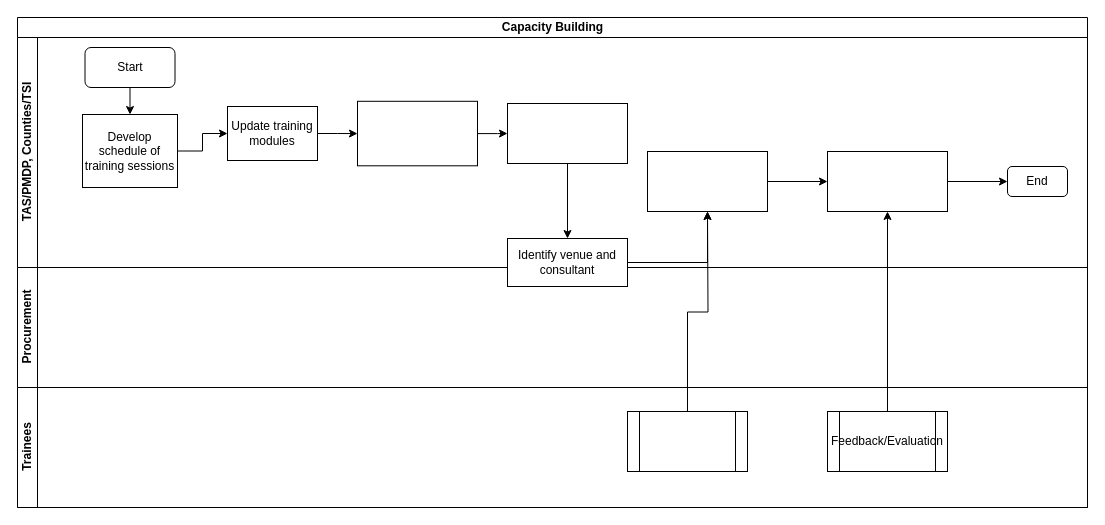
This 1105x525 diagram has some shape labels left out. Here are the shapes that lost their labels. From the top down, the centre of each, then its label:
At point (417, 133): "Compile training request/needs".
At point (567, 133): "Identify trainees/ participants".
At point (707, 181): "Conduct Training".
At point (887, 181): "Reports/Follow ups".
At point (687, 441): "Attend Training".
